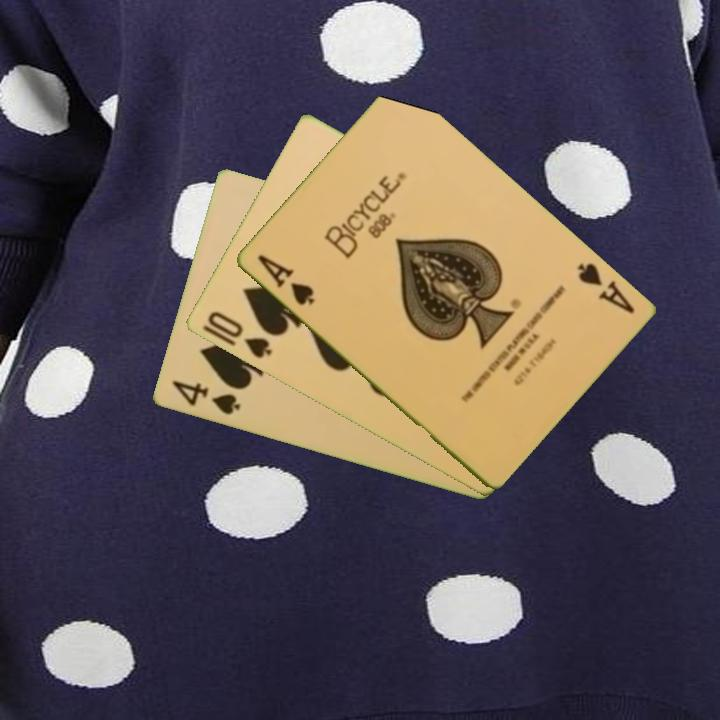10s: (203, 307, 275, 362)
4s: (168, 377, 243, 418)
As: (572, 259, 637, 317), (253, 251, 317, 309)
